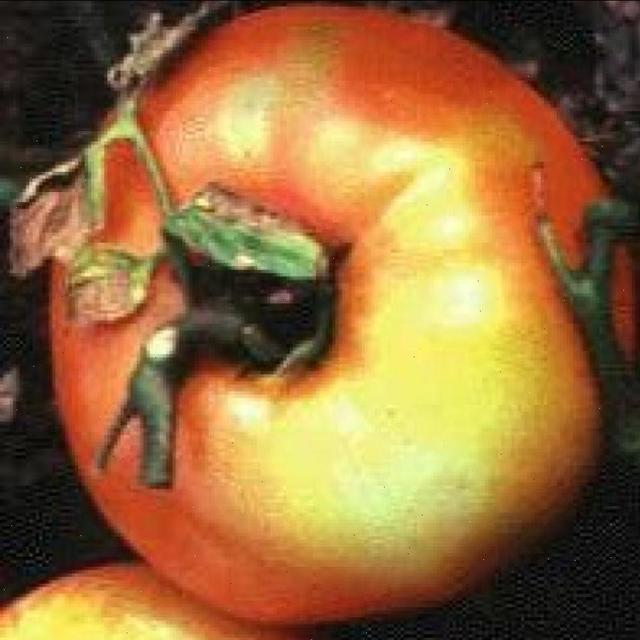Sunscald Fruit: (77, 22, 250, 416)
